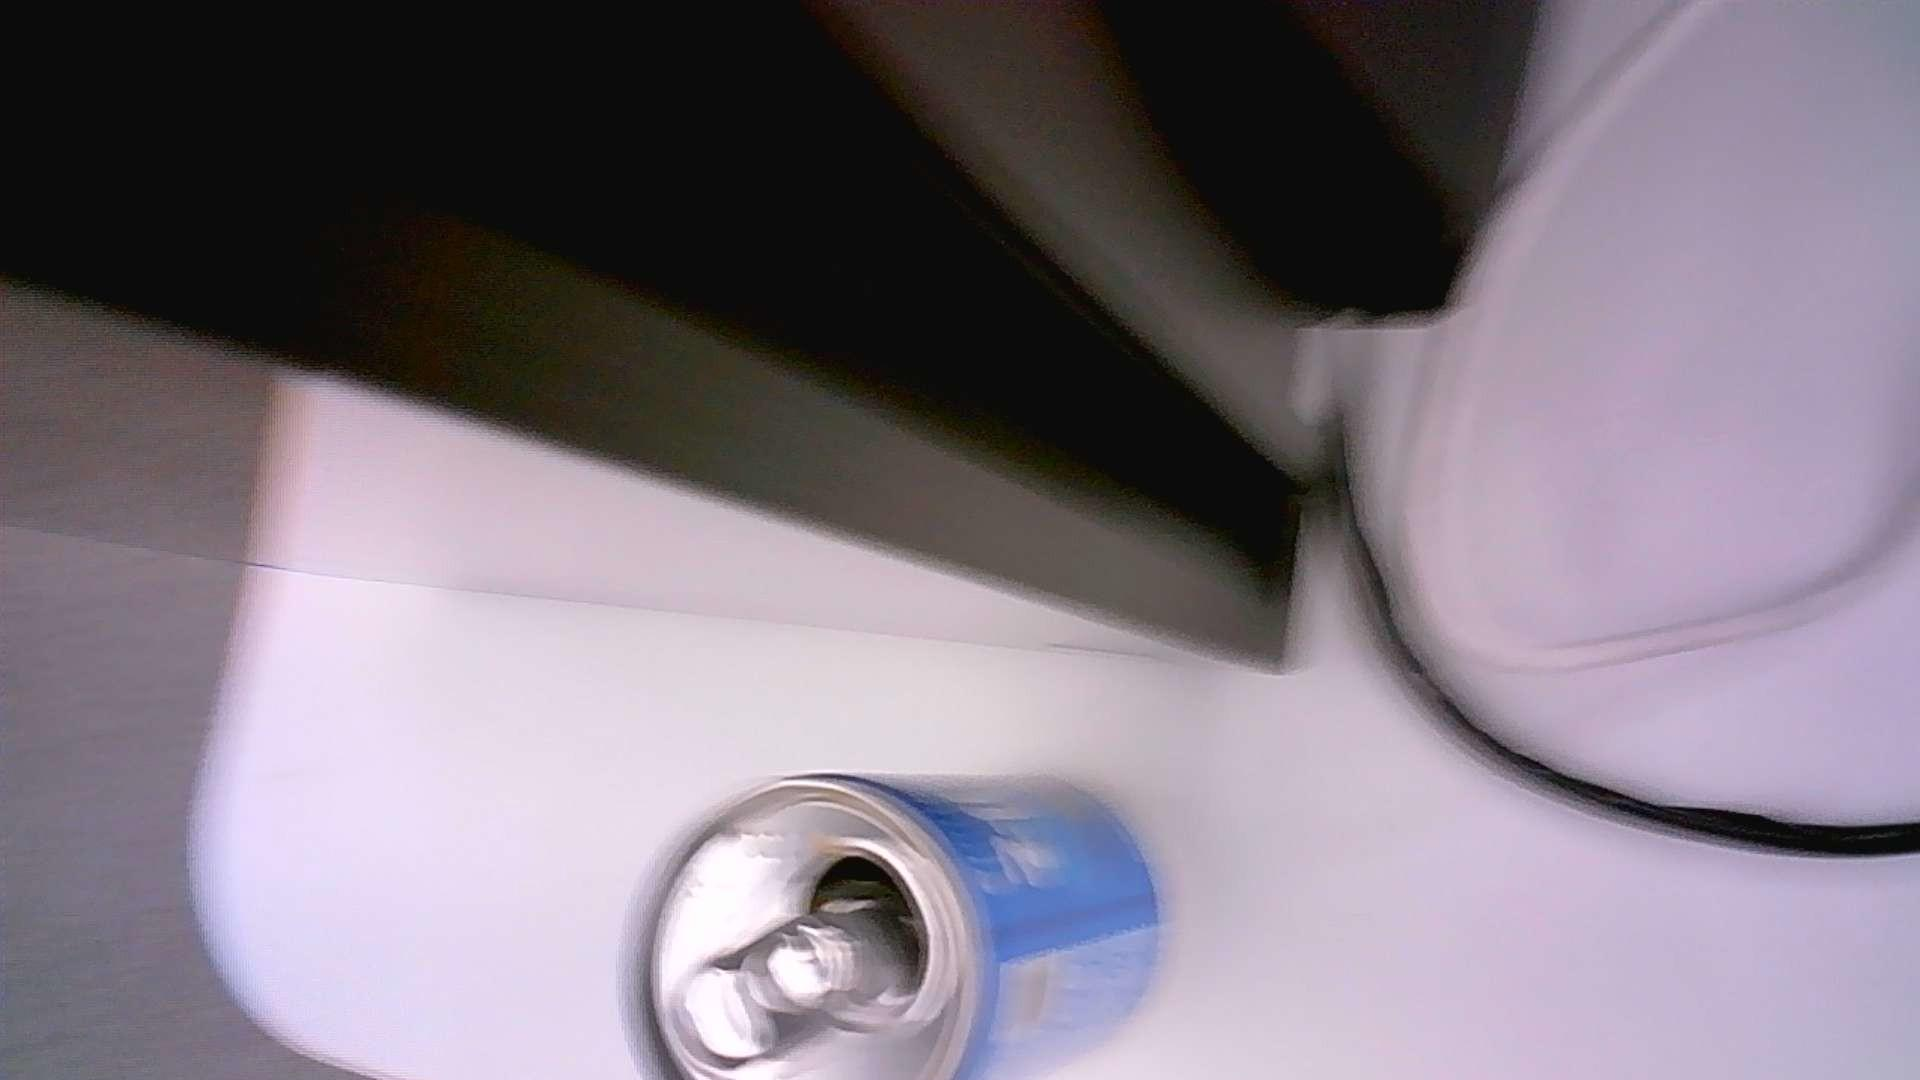letsbe: (618, 770, 1159, 1080)
